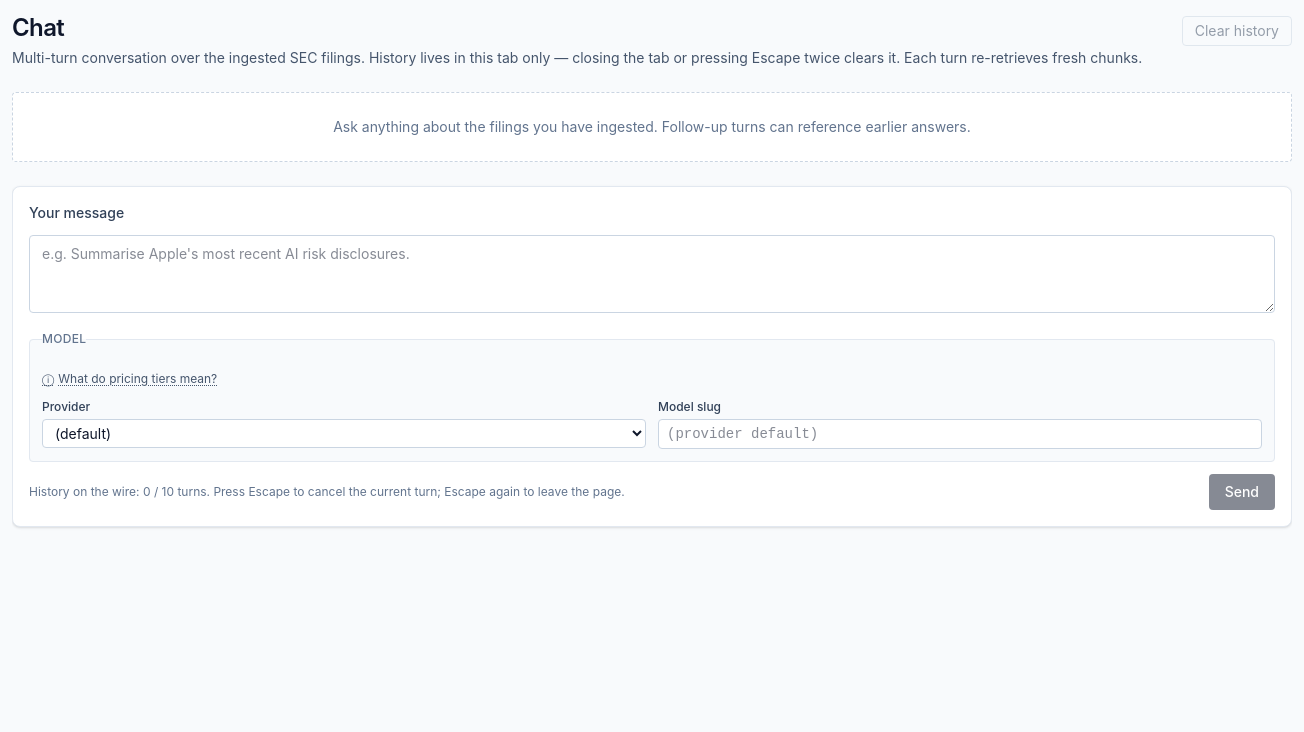
Scenario: ChatPage — session cost summary › accumulates an estimated session cost across priced turns
The width and height of the screenshot is (1304, 732).
In the text box labelled "Your message": (652, 274) top-left (29, 235), bottom-right (1275, 313), type "first"
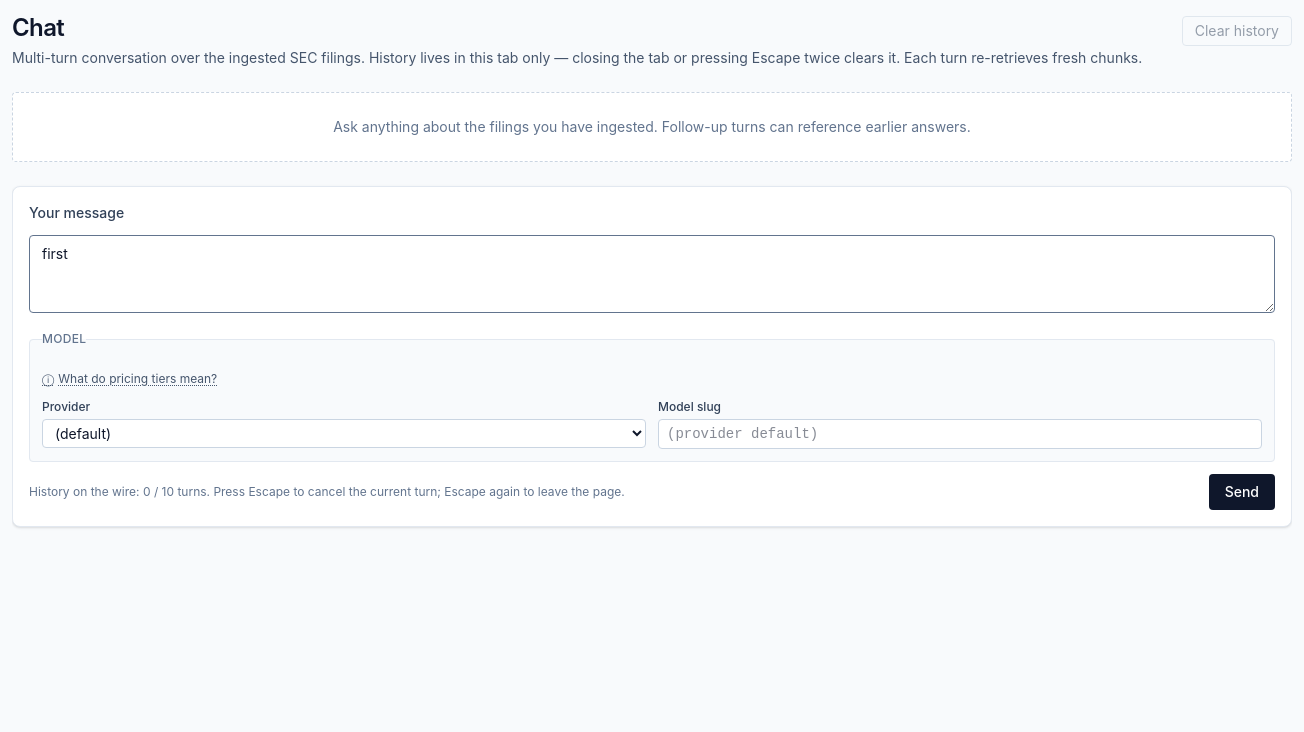
Click the button "Send": (1242, 492) top-left (1209, 474), bottom-right (1275, 510)
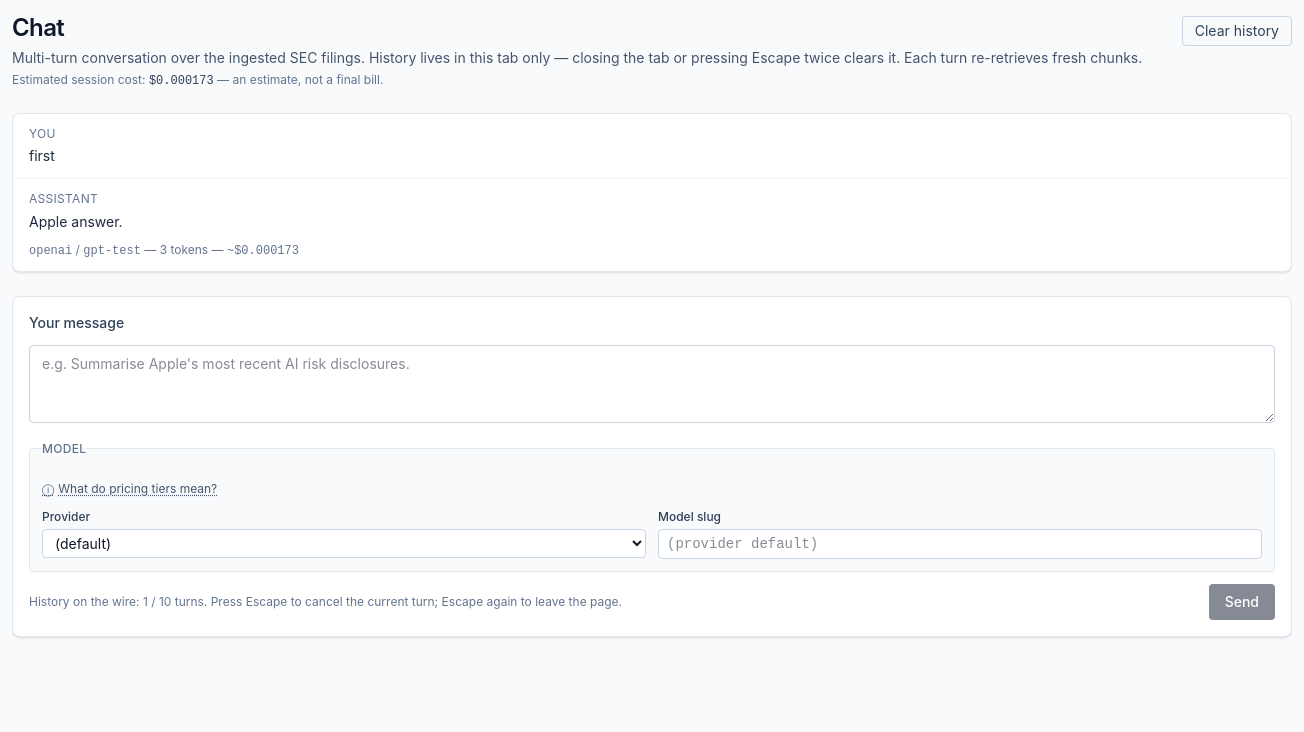
Result: the text "Apple answer." is shown at top-left (29, 213), bottom-right (123, 230)
Result: the element labelled "Estimated session cost" is shown at top-left (12, 72), bottom-right (146, 87)
Result: the element labelled "Estimated session cost" shows "$" at top-left (12, 72), bottom-right (383, 88)
